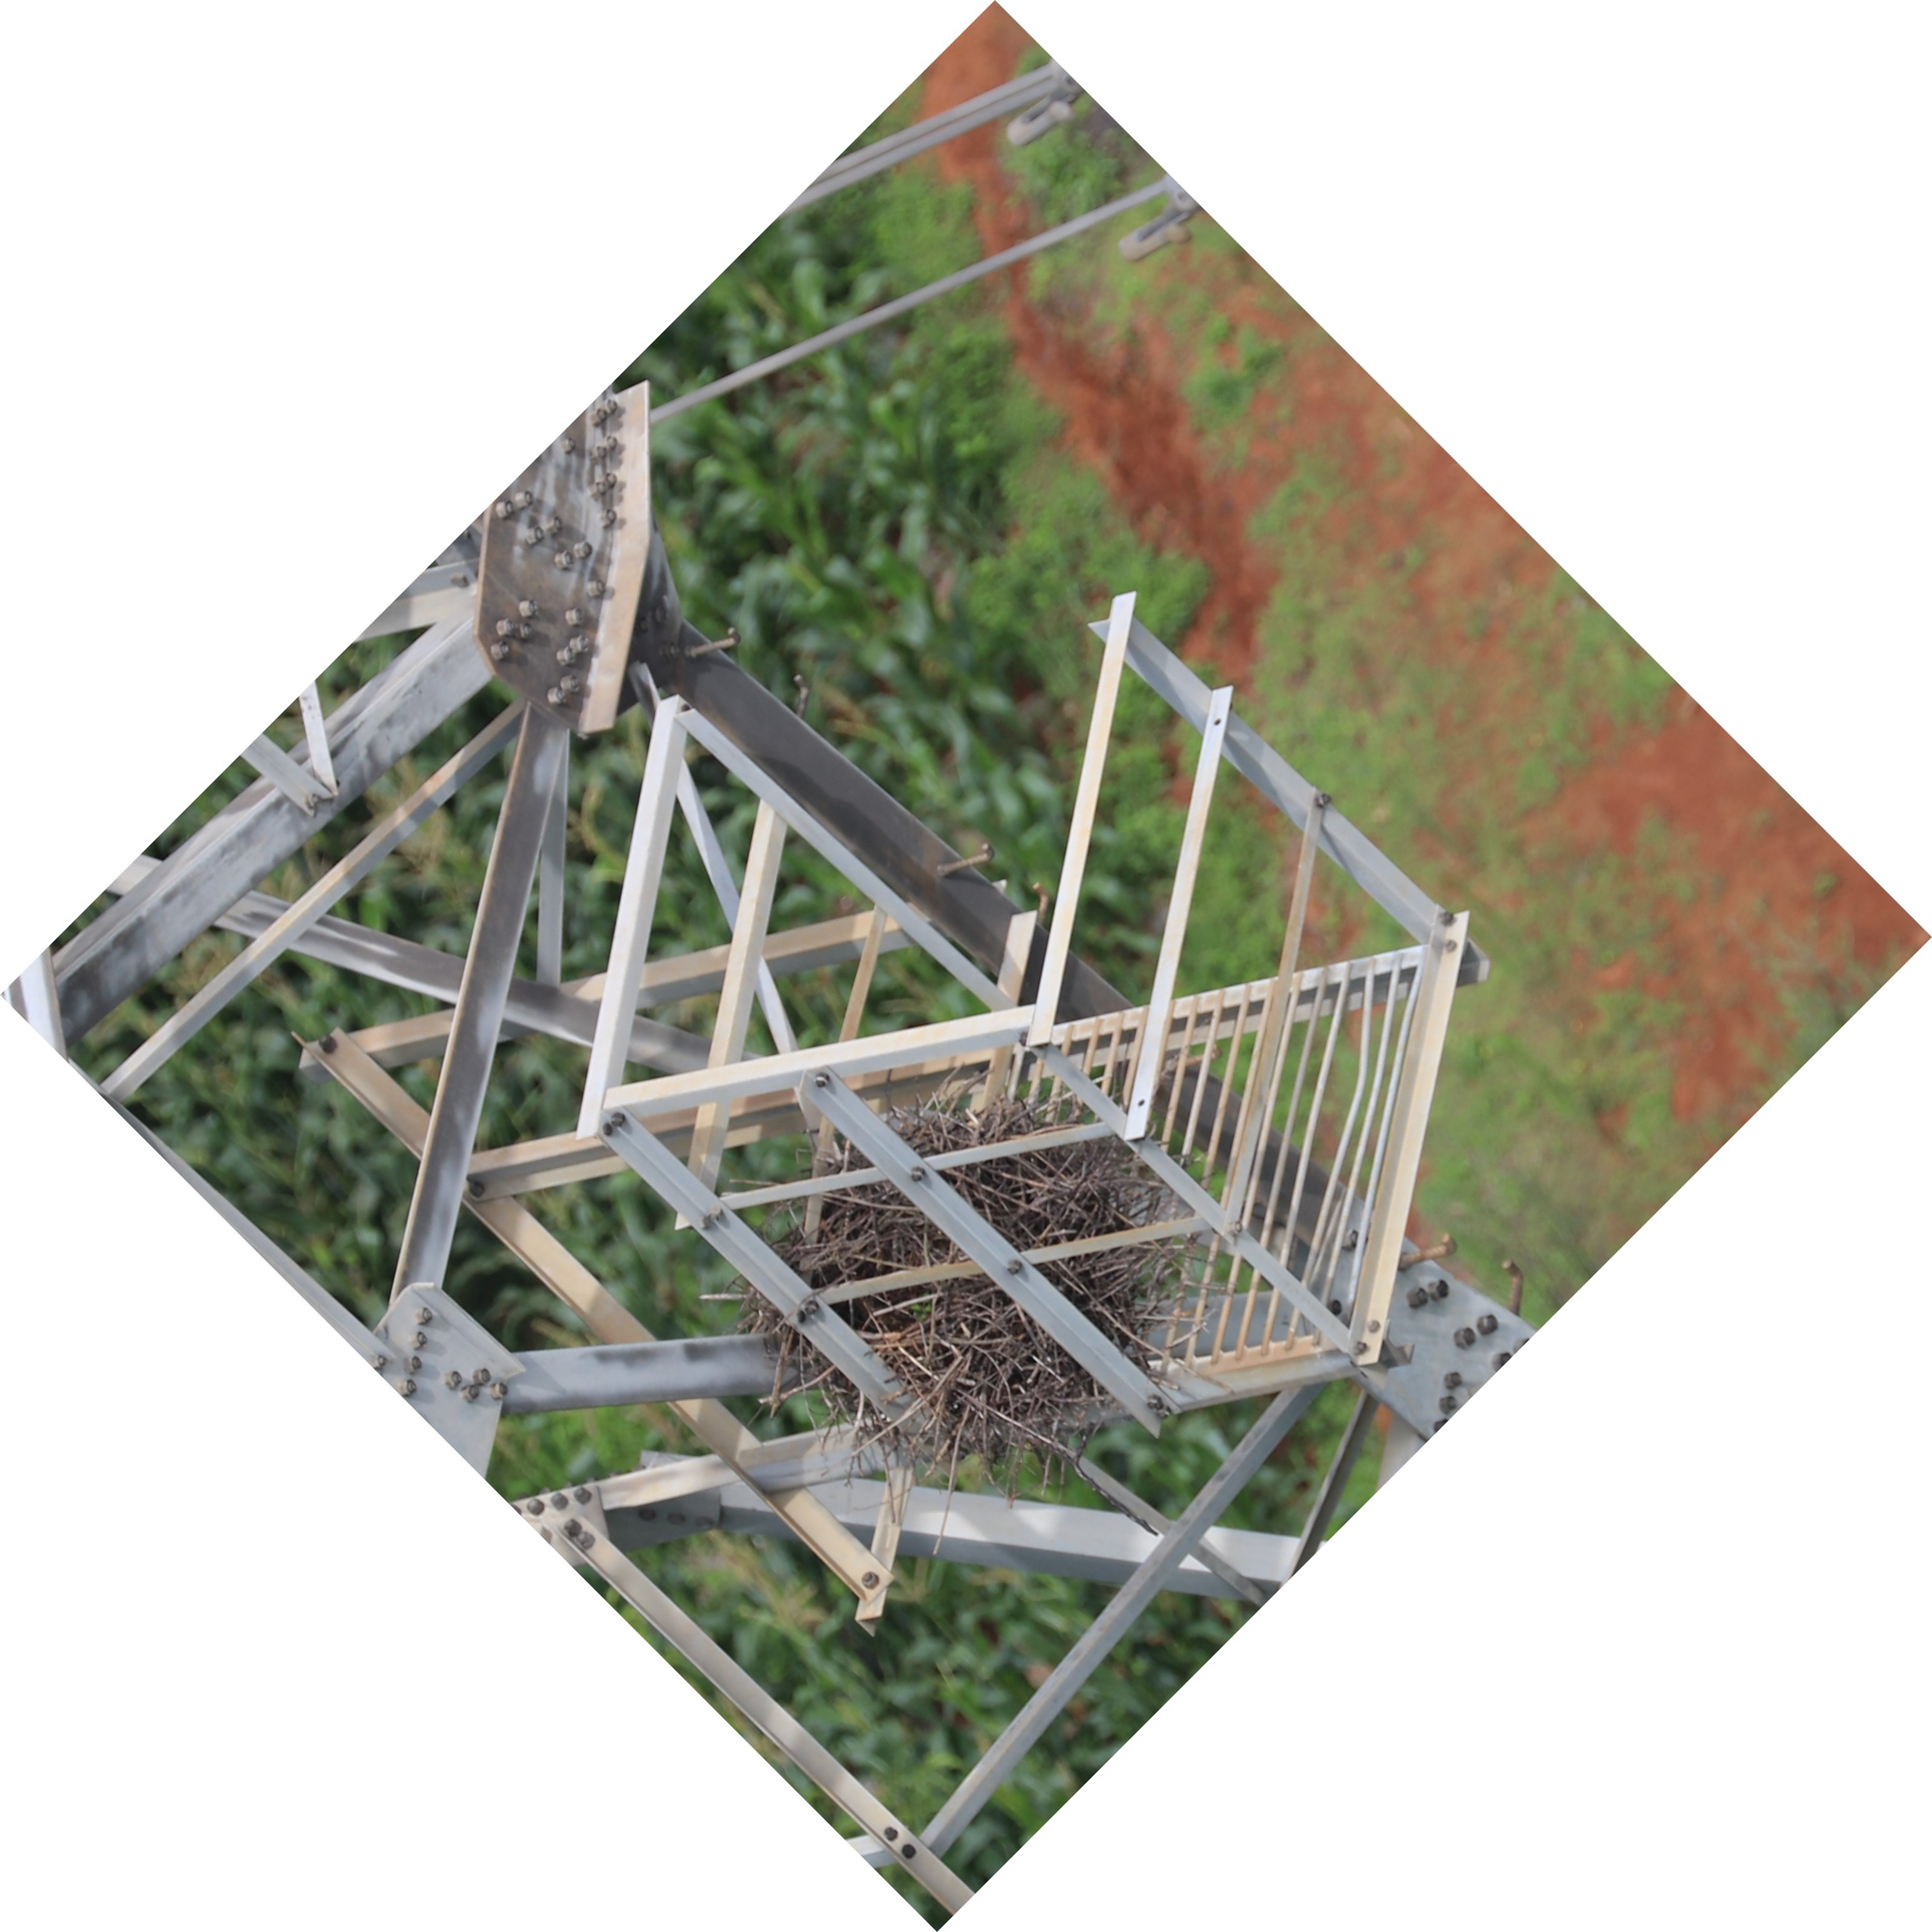niaowo: (709, 1065, 1152, 1476)
